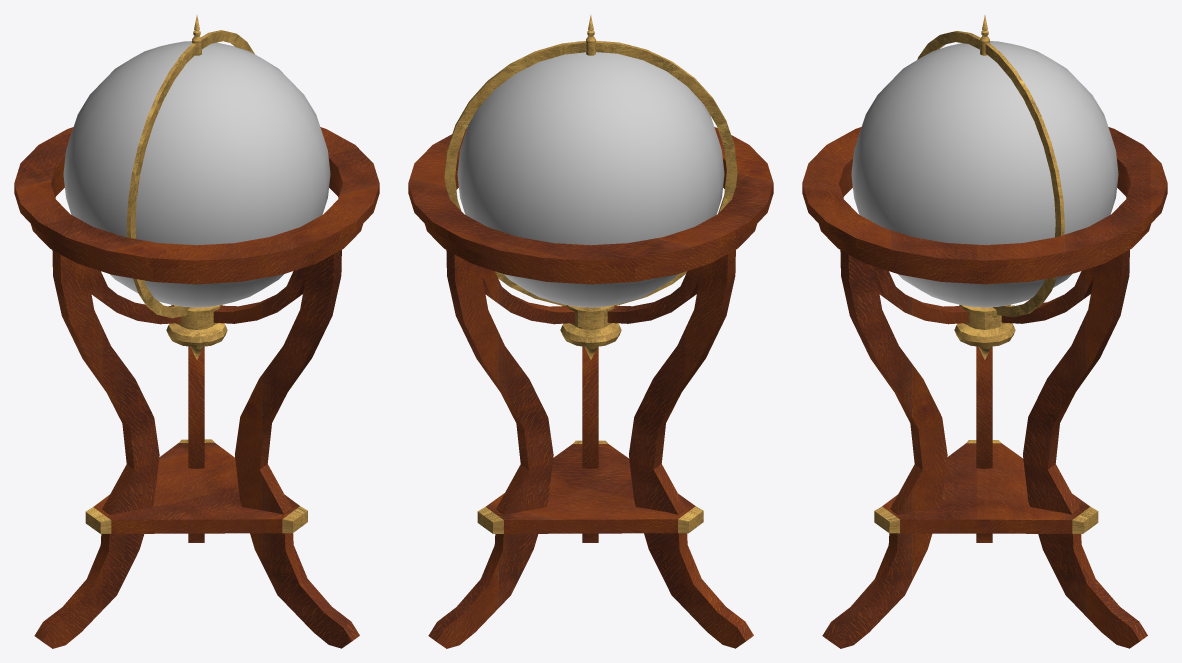
The model's file is Globe.fbx.
3 views of the same model, side by side, from view 1: azimuth 30°, elevation 25°; view 2: azimuth 150°, elevation 25°; view 3: azimuth 270°, elevation 25° (orthographic).
Parts seen in each view (by area): view 1: Globe; view 2: Globe; view 3: Globe.
Part boxes in pixels (x1,y1,x2,y2): Globe: [14, 14, 379, 648]; Globe: [408, 14, 773, 648]; Globe: [802, 15, 1167, 648].
Bounding box in the file's own units: 83.67 × 150 × 83.53.
